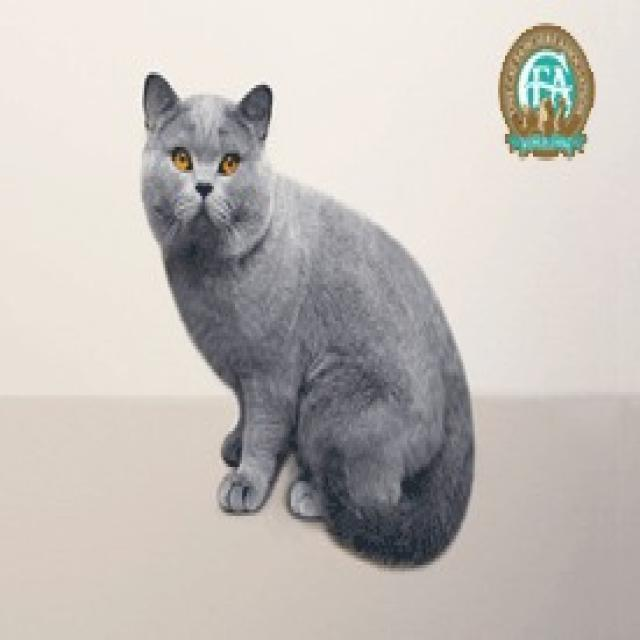British_Shorthair: (137, 70, 289, 280)
